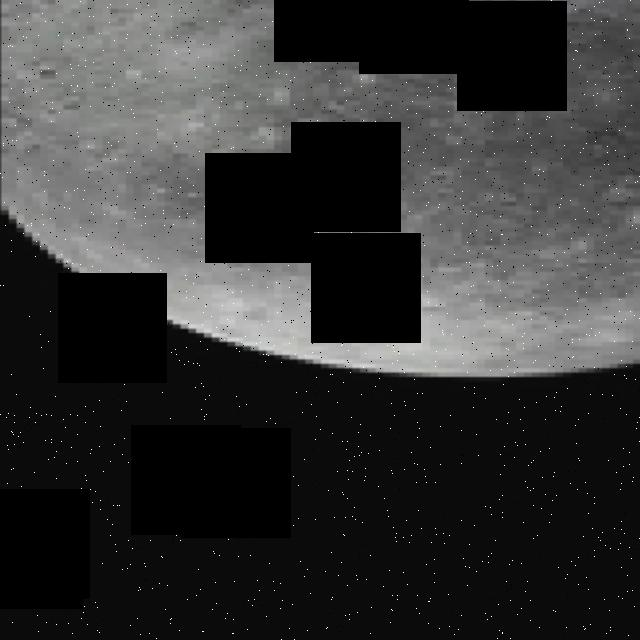Mercury: (0, 0, 640, 382)
